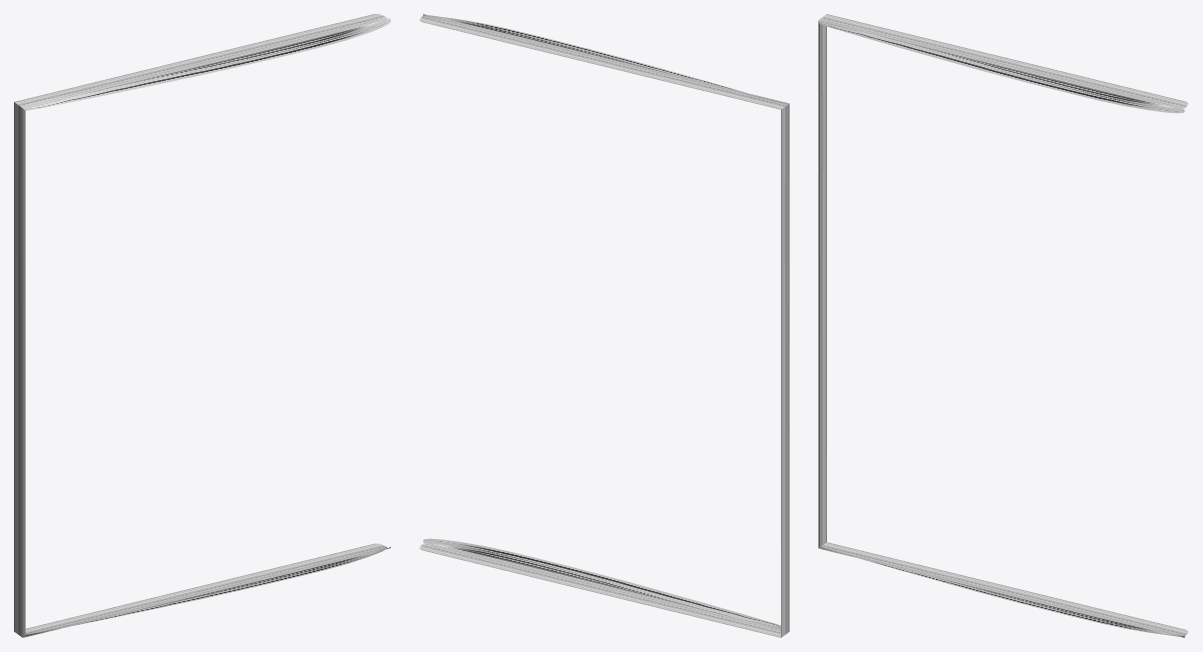
File: MeshBook_27_0_GeomSubset_1.obj
3 views of the same model, side by side, from view 1: azimuth 30°, elevation 25°; view 2: azimuth 150°, elevation 25°; view 3: azimuth 330°, elevation 25° (orthographic).
Visible parts, largest first — view 1: MeshBook_27_0_GeomSubset_1; view 2: MeshBook_27_0_GeomSubset_1; view 3: MeshBook_27_0_GeomSubset_1.
Boxes of the visible parts, x1,y1,x2,y2 form: MeshBook_27_0_GeomSubset_1: [14, 14, 390, 637]; MeshBook_27_0_GeomSubset_1: [419, 14, 789, 637]; MeshBook_27_0_GeomSubset_1: [818, 14, 1188, 637].
Size of the model in its own units: 0.286 by 0.3936 by 0.0241.
